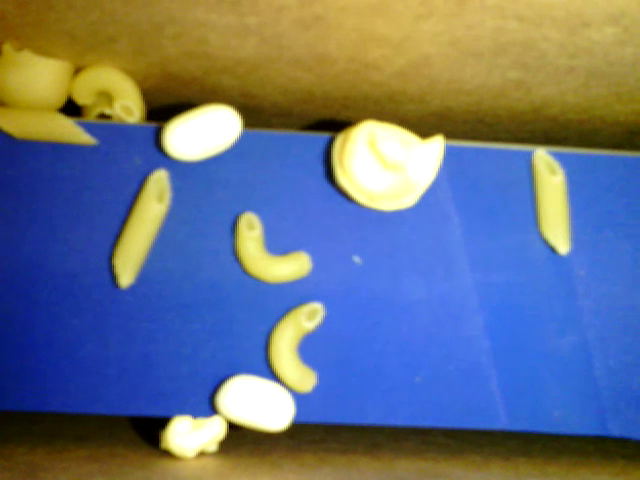elbow: (235, 211, 312, 281), (269, 303, 324, 393), (70, 64, 142, 121)
penne: (112, 168, 170, 290), (532, 146, 572, 255), (1, 110, 97, 143)
shell: (1, 42, 76, 110), (83, 93, 125, 120)
tortellini: (331, 117, 444, 210)
